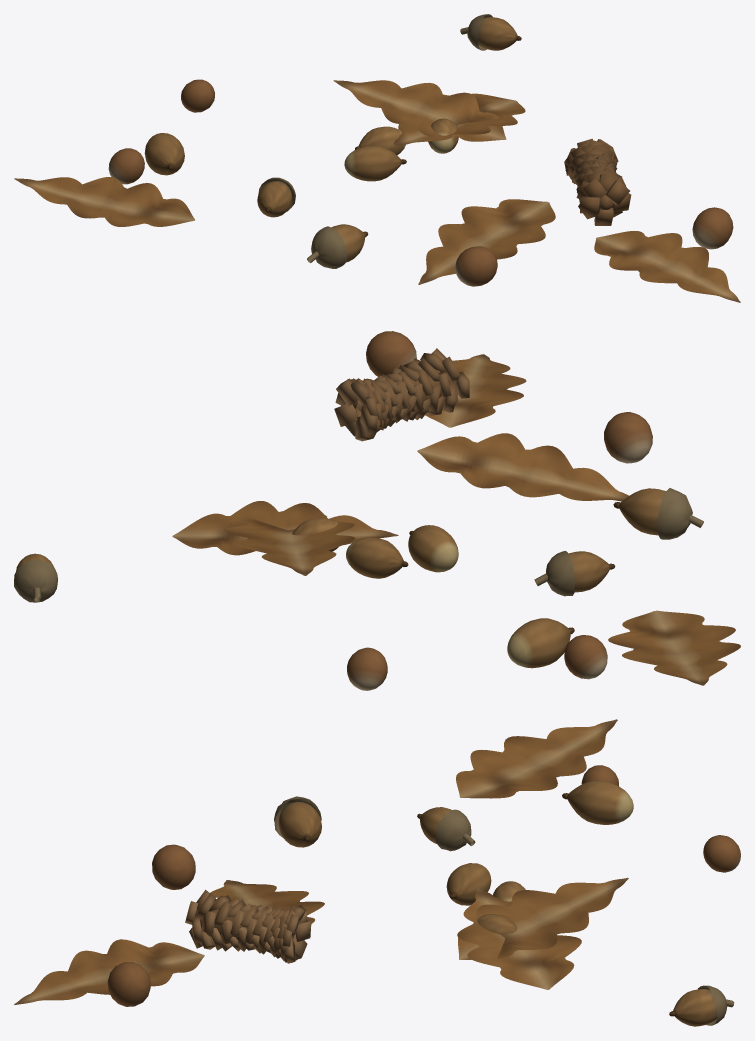
The model's file is seeds.glb.
The picture shows the model from 3 angles, top to bottom: view 1: azimuth 30°, elevation 25°; view 2: azimuth 150°, elevation 25°; view 3: azimuth 270°, elevation 25°; orthographic projection. The views are drawn at different scales.
Visible parts, largest first — view 1: seeds_oak_leaf_dry, seeds_acorn, seeds_hazelnut, pine_cone; view 2: seeds_oak_leaf_dry, seeds_acorn, pine_cone, seeds_hazelnut; view 3: seeds_oak_leaf_dry, seeds_acorn, pine_cone, seeds_hazelnut.
Boxes of the visible parts, x1=… form: seeds_oak_leaf_dry: x1=14, y1=80, x2=740, y2=302; seeds_acorn: x1=144, y1=14, x2=521, y2=268; seeds_hazelnut: x1=108, y1=79, x2=733, y2=286; pine_cone: x1=564, y1=138, x2=631, y2=225; seeds_oak_leaf_dry: x1=172, y1=354, x2=740, y2=685; seeds_acorn: x1=14, y1=488, x2=703, y2=668; pine_cone: x1=334, y1=348, x2=469, y2=441; seeds_hazelnut: x1=347, y1=331, x2=652, y2=690; seeds_oak_leaf_dry: x1=14, y1=719, x2=628, y2=1004; seeds_acorn: x1=274, y1=780, x2=734, y2=1026; pine_cone: x1=185, y1=889, x2=311, y2=963; seeds_hazelnut: x1=107, y1=765, x2=740, y2=1006.
Bounding box in the file's own units: 0.3103 × 0.0429 × 0.3308.
